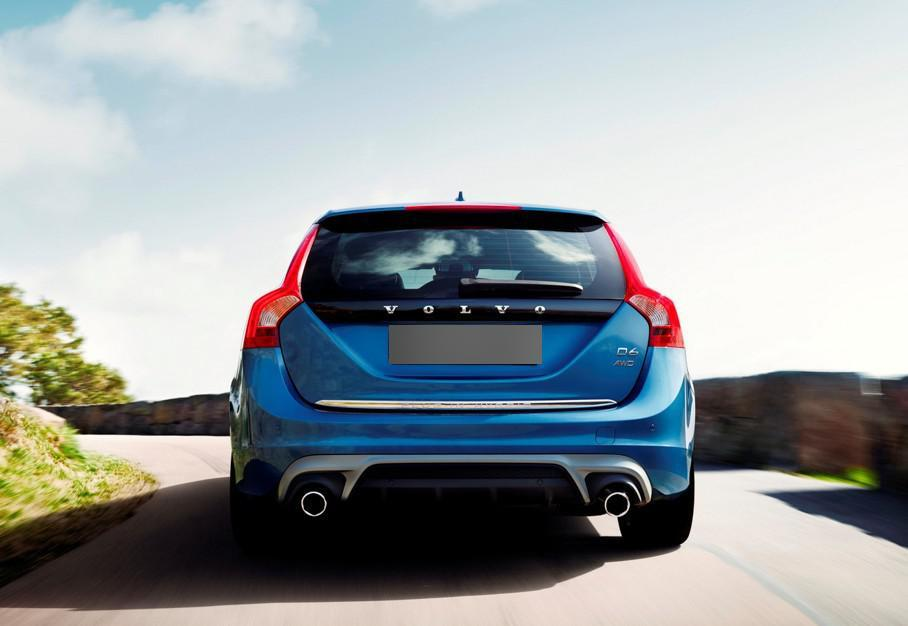Wagon: (231, 204, 695, 547)
